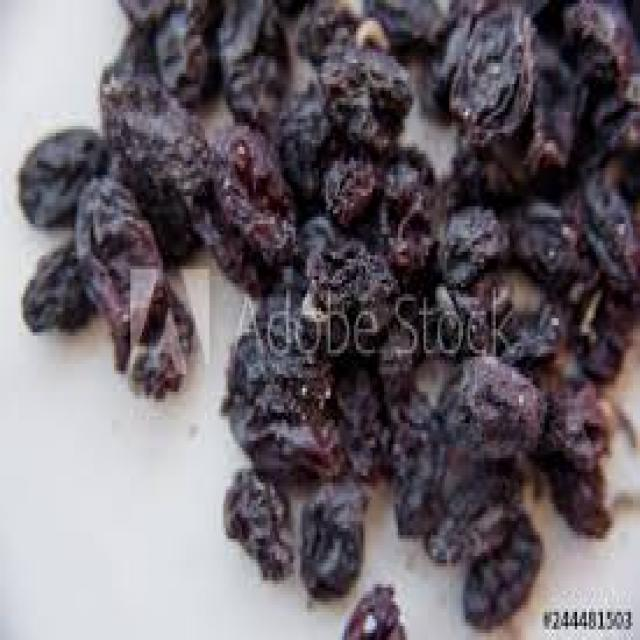organic waste: (72, 175, 196, 399), (98, 59, 212, 256), (198, 119, 293, 280), (219, 388, 347, 493), (491, 28, 582, 175), (447, 3, 538, 144), (433, 353, 542, 465), (556, 0, 637, 150), (226, 280, 333, 388), (317, 38, 414, 147), (507, 192, 598, 304), (458, 507, 540, 626), (14, 119, 105, 224), (298, 241, 396, 336), (572, 157, 638, 294), (298, 476, 372, 598), (422, 472, 522, 556), (461, 266, 554, 353), (18, 227, 96, 329), (221, 469, 293, 577), (270, 77, 335, 196), (528, 381, 610, 469), (398, 276, 489, 354), (332, 357, 388, 479), (393, 448, 472, 532), (540, 448, 612, 535), (380, 144, 436, 255), (433, 199, 505, 280), (570, 290, 633, 381), (293, 0, 388, 59), (291, 210, 363, 287), (435, 451, 524, 511), (440, 136, 514, 206), (218, 49, 288, 119), (314, 143, 377, 217), (153, 0, 204, 91), (211, 0, 286, 59), (358, 0, 453, 45), (342, 574, 405, 636), (388, 378, 438, 454), (438, 150, 508, 200), (372, 315, 410, 395), (114, 14, 158, 73), (116, 0, 165, 24), (182, 0, 214, 21)
